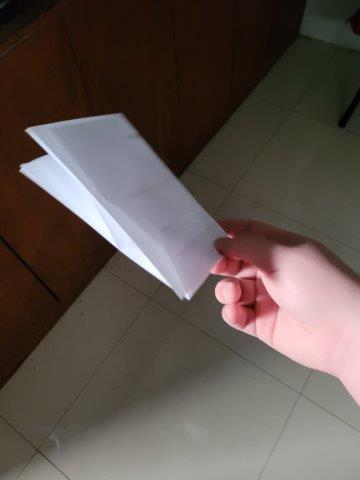kertas: (22, 114, 234, 298)
